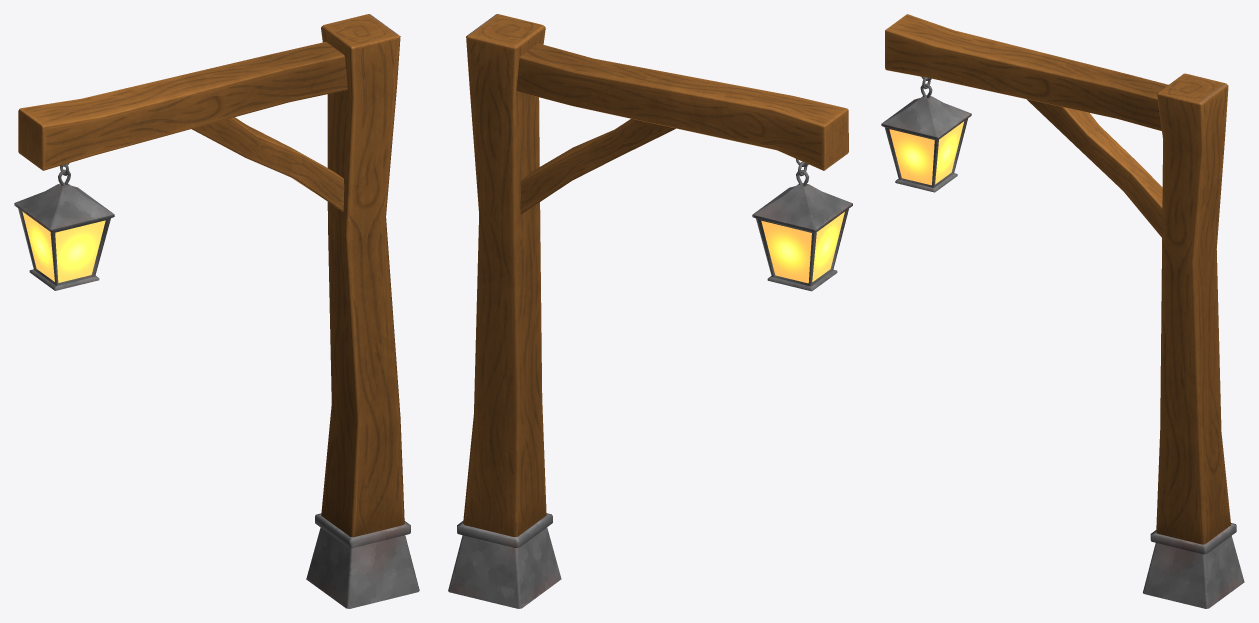
The model's file is SM_Stylized_Lamp_A.fbx.
3 renders of one model, left to right at view 1: azimuth 30°, elevation 25°; view 2: azimuth 150°, elevation 25°; view 3: azimuth 330°, elevation 25°, orthographic. The views are drawn at different scales.
Visible parts, largest first — view 1: SM_Stylized_Lamp_A_LOD0; view 2: SM_Stylized_Lamp_A_LOD0; view 3: SM_Stylized_Lamp_A_LOD0.
Boxes of the visible parts, box(x1,y1,x2,y2) form: SM_Stylized_Lamp_A_LOD0: box(14, 14, 419, 608); SM_Stylized_Lamp_A_LOD0: box(448, 14, 852, 608); SM_Stylized_Lamp_A_LOD0: box(881, 14, 1244, 608).
Size of the model in its own units: 204 by 40.93 by 294.
